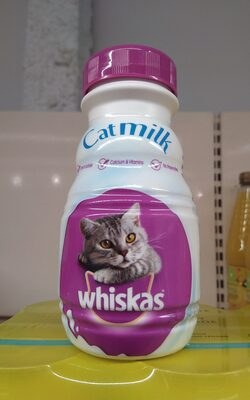Whiskas Catmilk: (12, 20, 238, 380)
